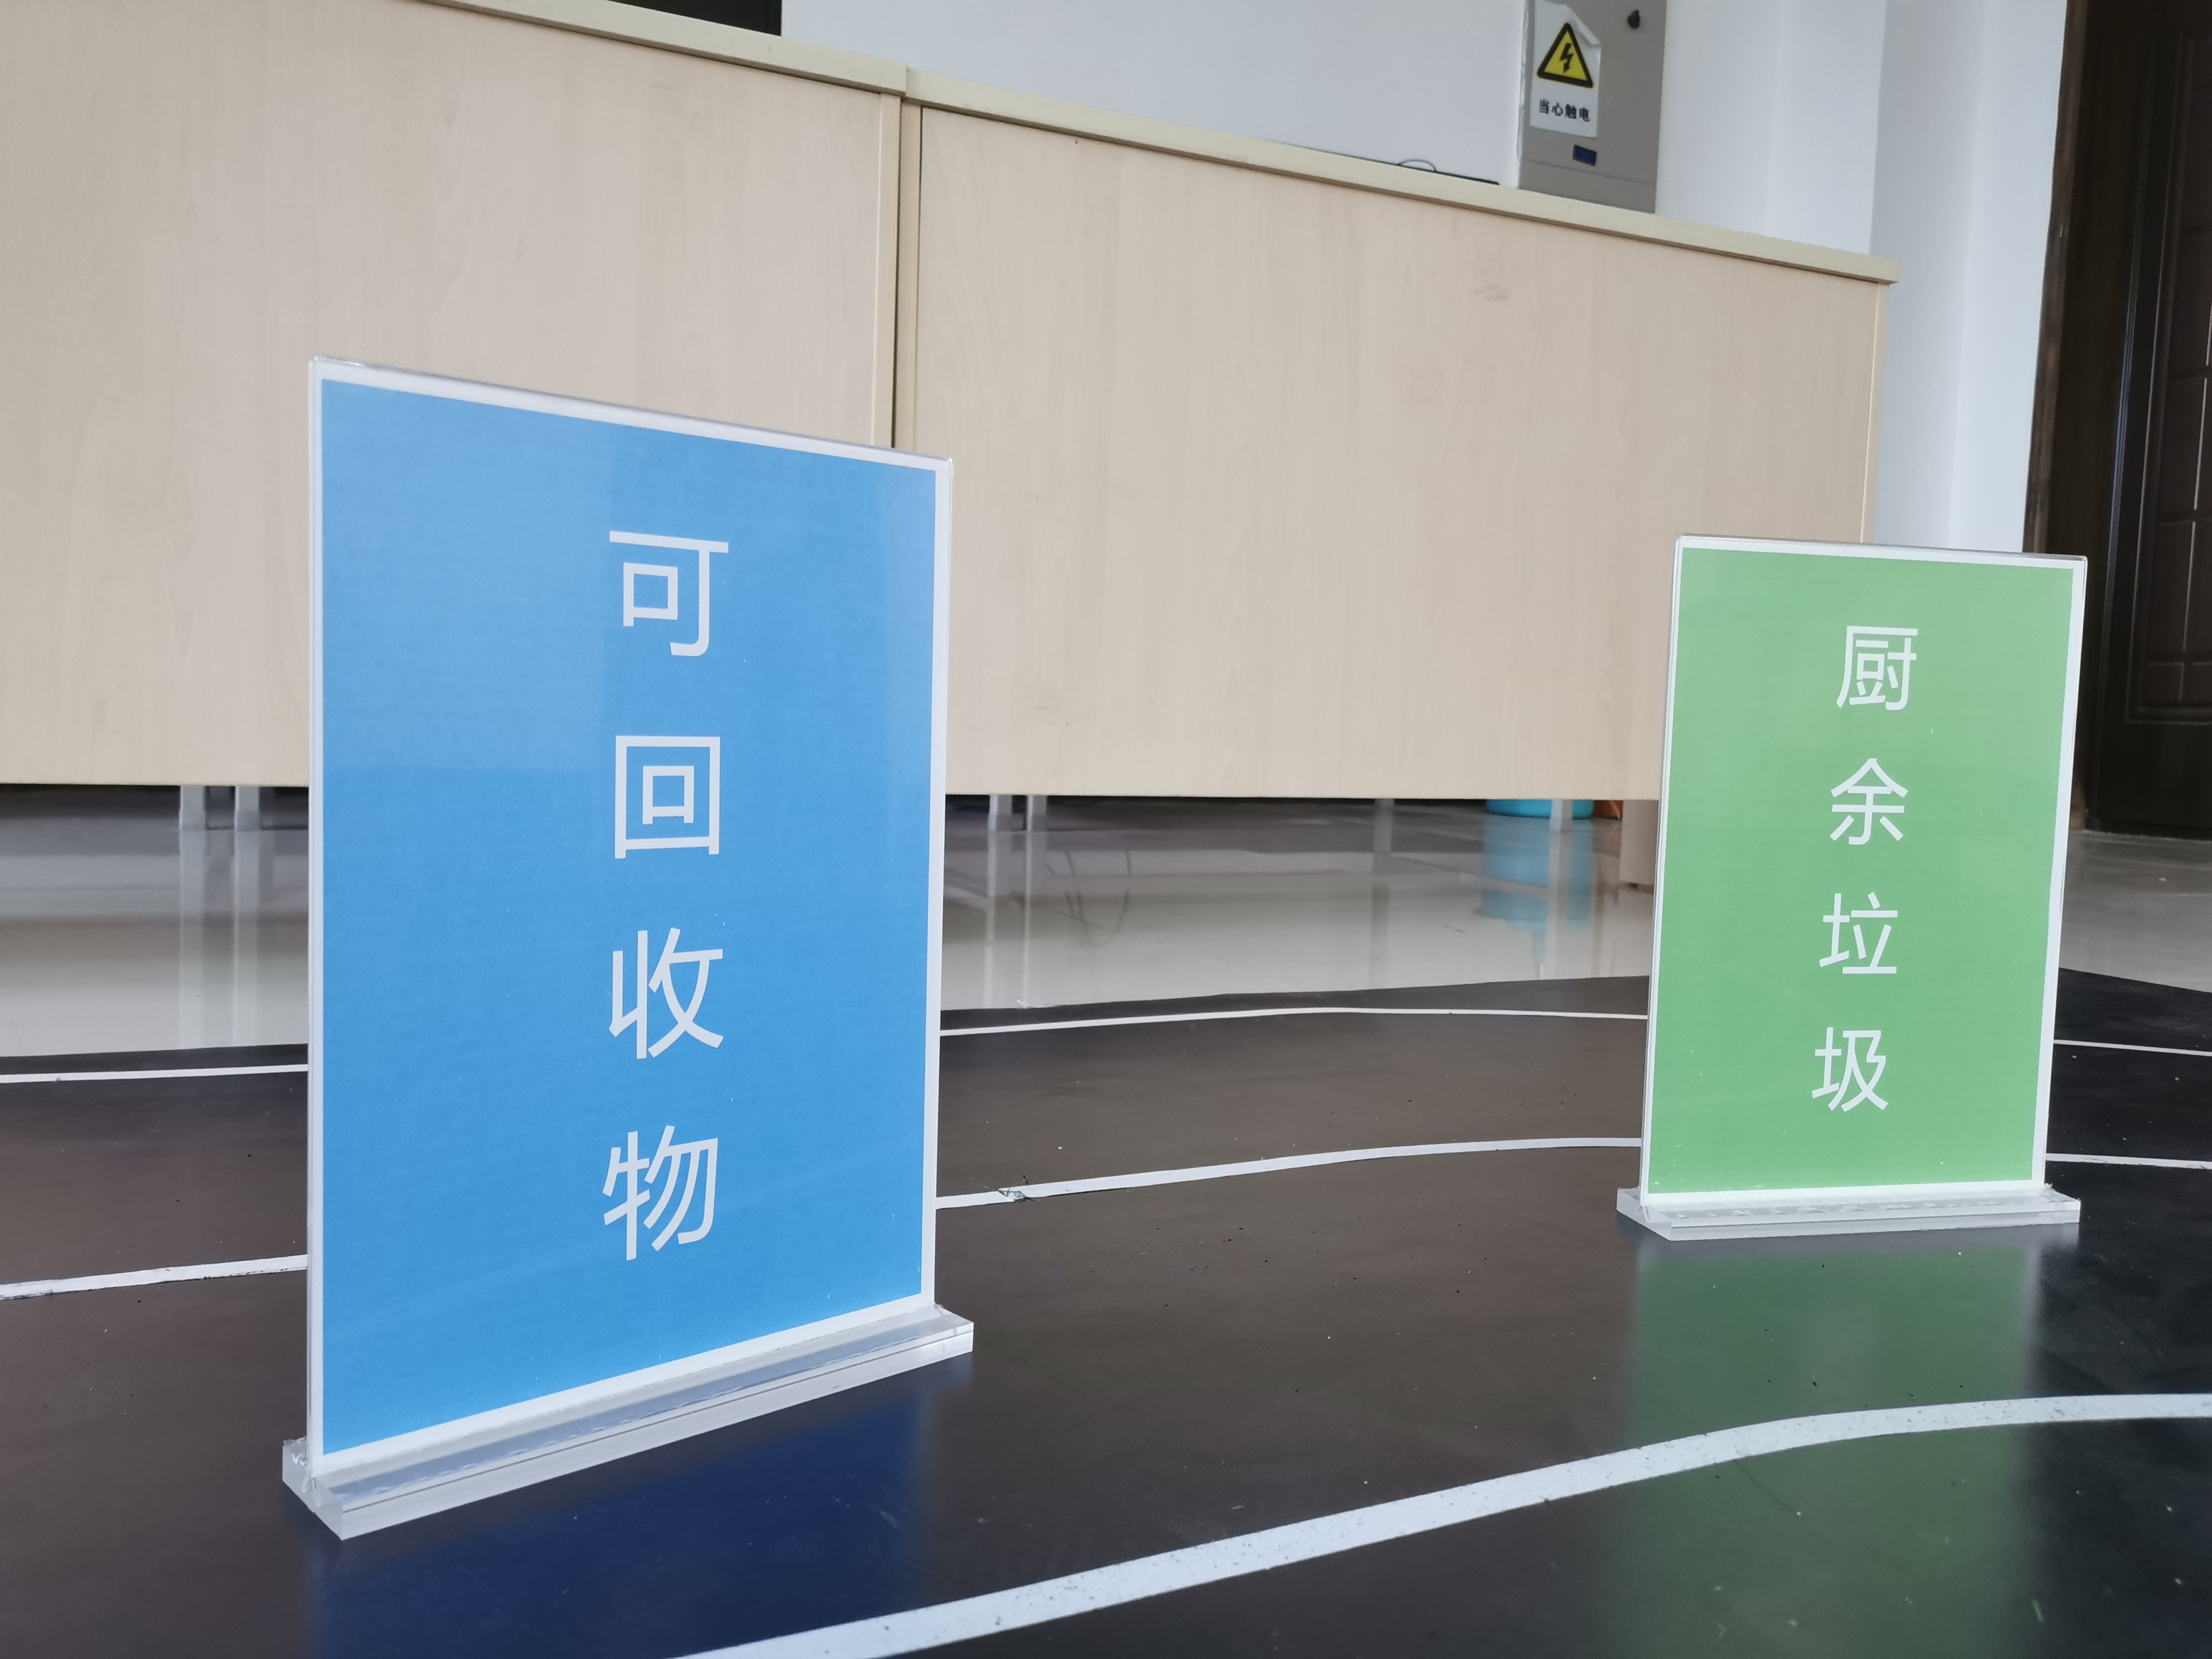blue: (336, 476, 909, 1290)
green: (1691, 575, 2026, 1176)
